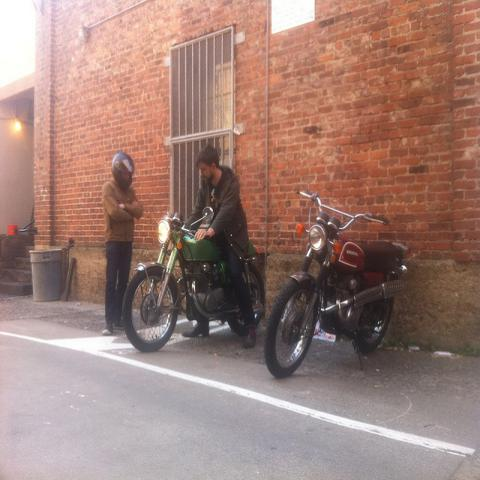motorcycle: (259, 181, 410, 380), (126, 214, 262, 354)
